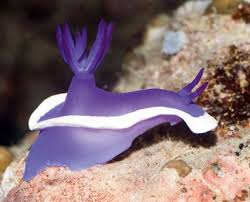slug: (23, 26, 220, 179)
